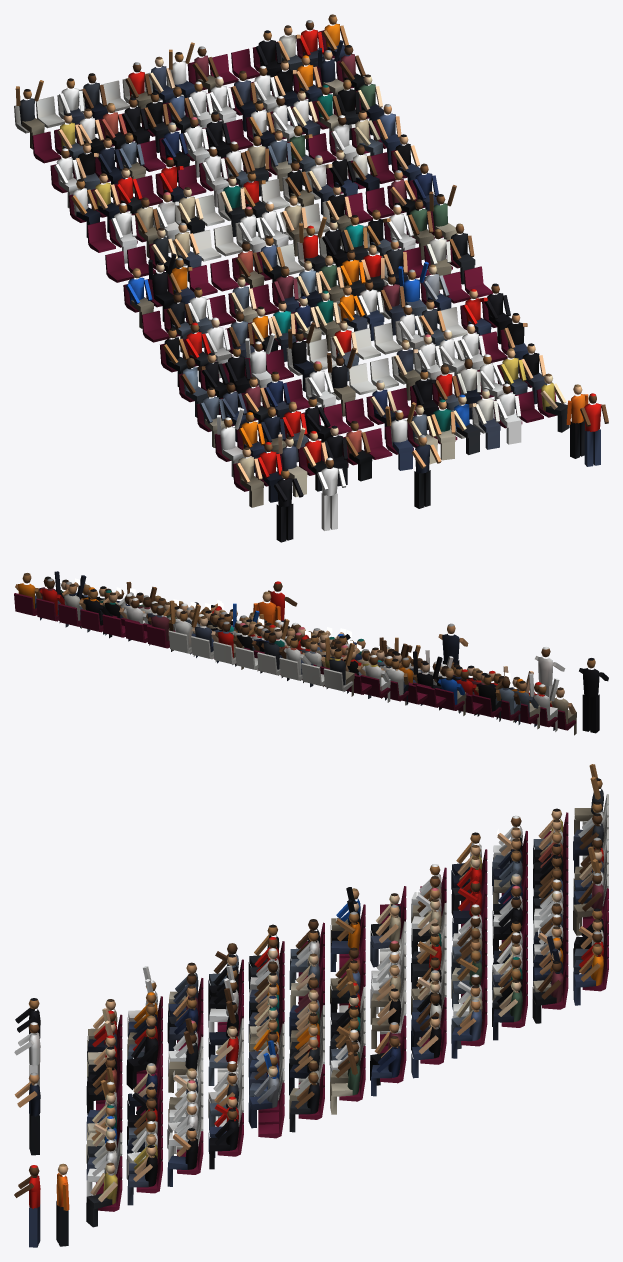
File: stand_academy_kit_2.glb
3 renders of one model, top to bottom at view 1: azimuth 30°, elevation 25°; view 2: azimuth 150°, elevation 25°; view 3: azimuth 270°, elevation 25°, orthographic. The views are drawn at different scales.
Visible parts, largest first — view 1: kit_2; view 2: kit_2; view 3: kit_2.
Boxes of the visible parts, <box> form: kit_2: <box>14,14,608,542</box>; kit_2: <box>14,571,608,735</box>; kit_2: <box>14,764,608,1247</box>.
Bounding box in the file's own units: 8.56 × 6.61 × 11.74.
